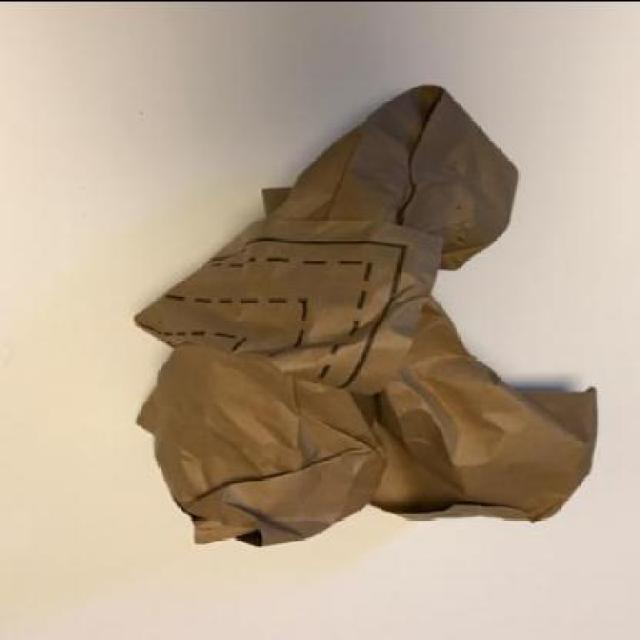PAPER: (128, 88, 595, 548)
